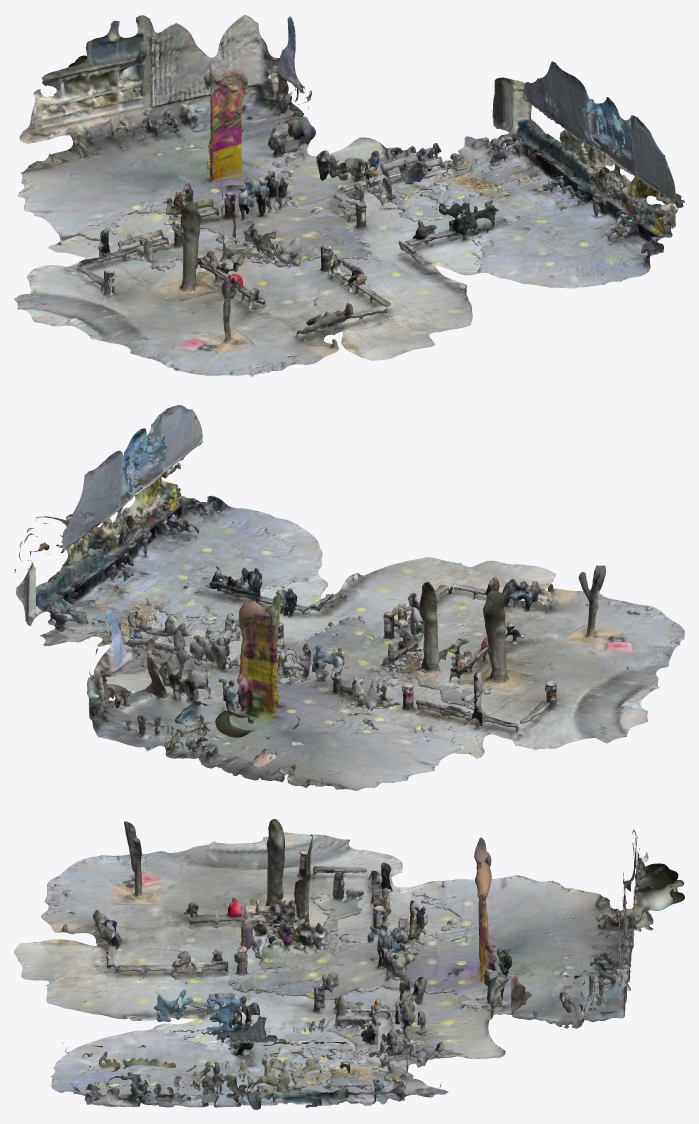
3 views of the same model, one above another, from view 1: azimuth 30°, elevation 25°; view 2: azimuth 150°, elevation 25°; view 3: azimuth 270°, elevation 25° (orthographic). The views are drawn at different scales.
Visible parts, largest first — view 1: mesh; view 2: mesh; view 3: mesh.
Part boxes in pixels (x1,y1,x2,y2): mesh: (14, 14, 684, 376); mesh: (14, 405, 684, 790); mesh: (14, 819, 684, 1109).
Size of the model in its own units: 32.43 by 6.88 by 29.94.
1 material, 1 textured.
